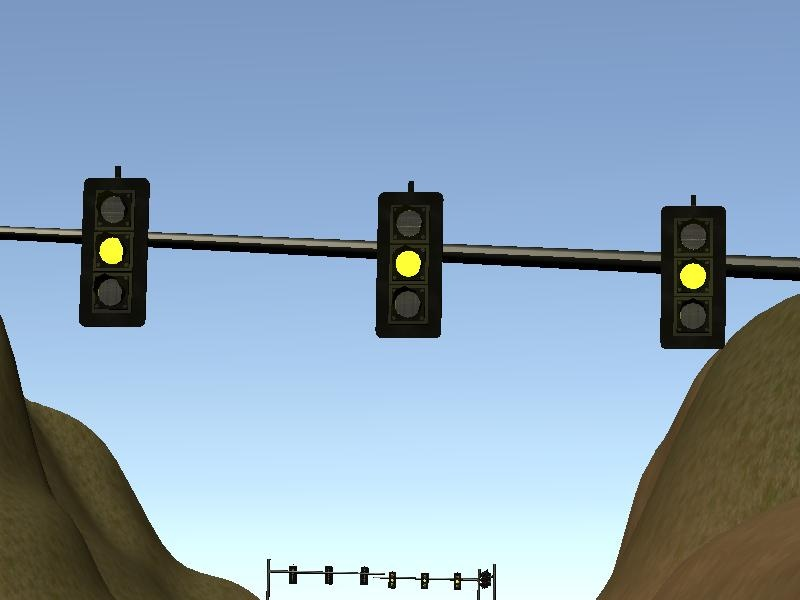YELLOW: (78, 165, 151, 329), (372, 182, 441, 337), (656, 196, 725, 351)
